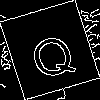Q: (25, 24, 78, 84)
